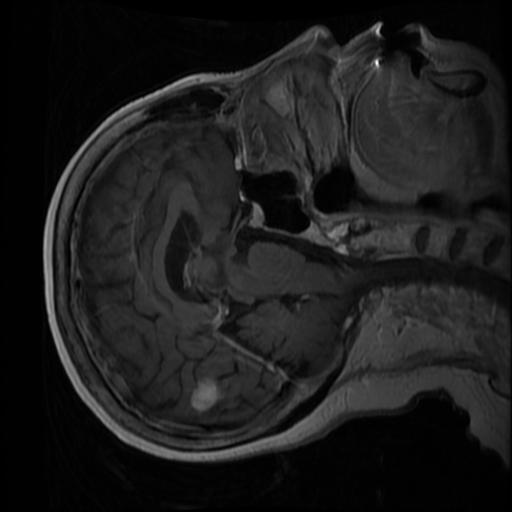meningioma: (190, 377, 216, 411)
